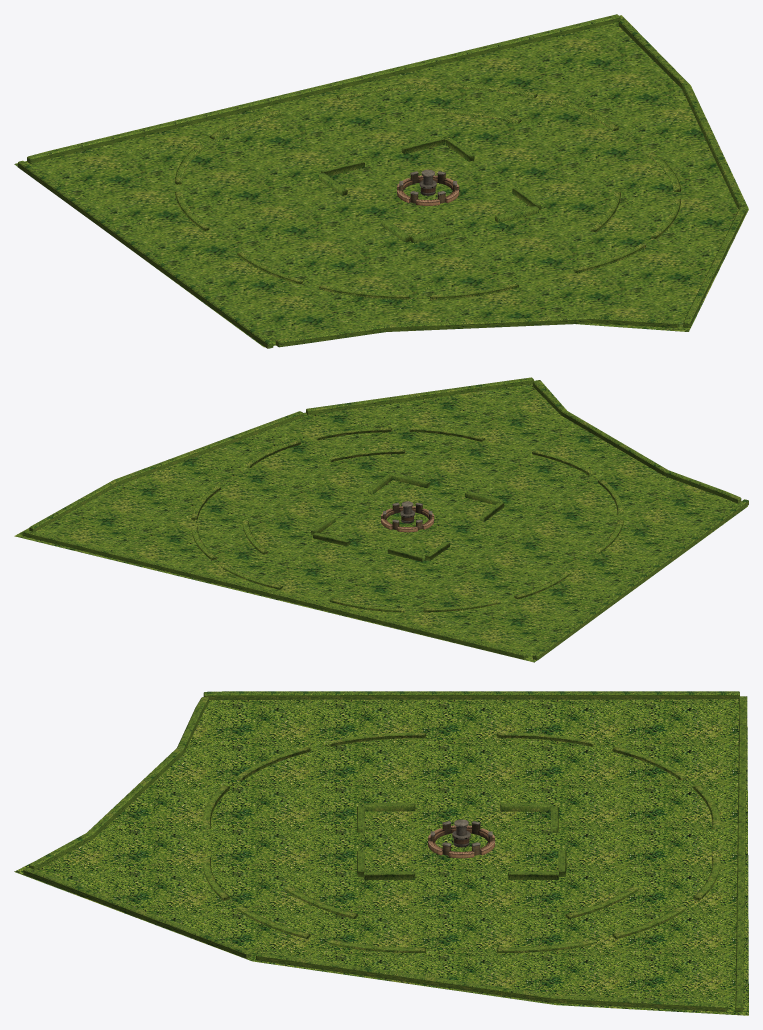
File: patchgassenvir.FBX
3 views of the same model, one above another, from view 1: azimuth 30°, elevation 25°; view 2: azimuth 150°, elevation 25°; view 3: azimuth 270°, elevation 25° (orthographic). The views are drawn at different scales.
Parts seen in each view (by area): view 1: grass, part_02, polySurface2185, Fountain; view 2: grass, part_02, polySurface2185, Fountain; view 3: grass, part_02, polySurface2185, Fountain.
Boxes of the visible parts, box(x1,y1,x2,y2) form: grass: box(14, 15, 748, 347); part_02: box(17, 14, 746, 348); polySurface2185: box(175, 83, 680, 299); Fountain: box(397, 169, 459, 205); grass: box(14, 380, 747, 662); part_02: box(22, 377, 748, 660); polySurface2185: box(191, 427, 623, 612); Fountain: box(381, 501, 434, 532); grass: box(14, 696, 748, 1015); part_02: box(23, 691, 746, 1012); polySurface2185: box(203, 733, 720, 952); Fountain: box(428, 819, 495, 858).
Bounding box in the file's own units: 58.48 × 1.91 × 56.83.
2 materials, 2 textured.
